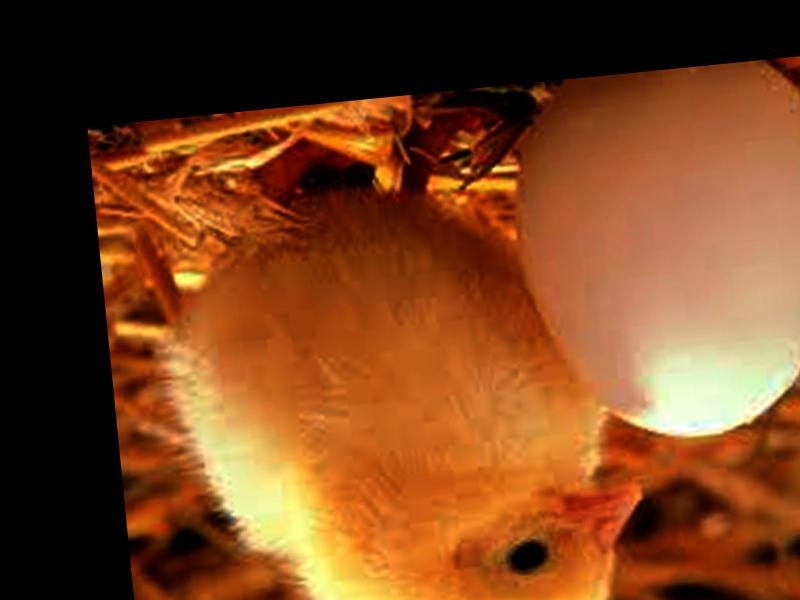Eggs: (501, 53, 800, 454)
